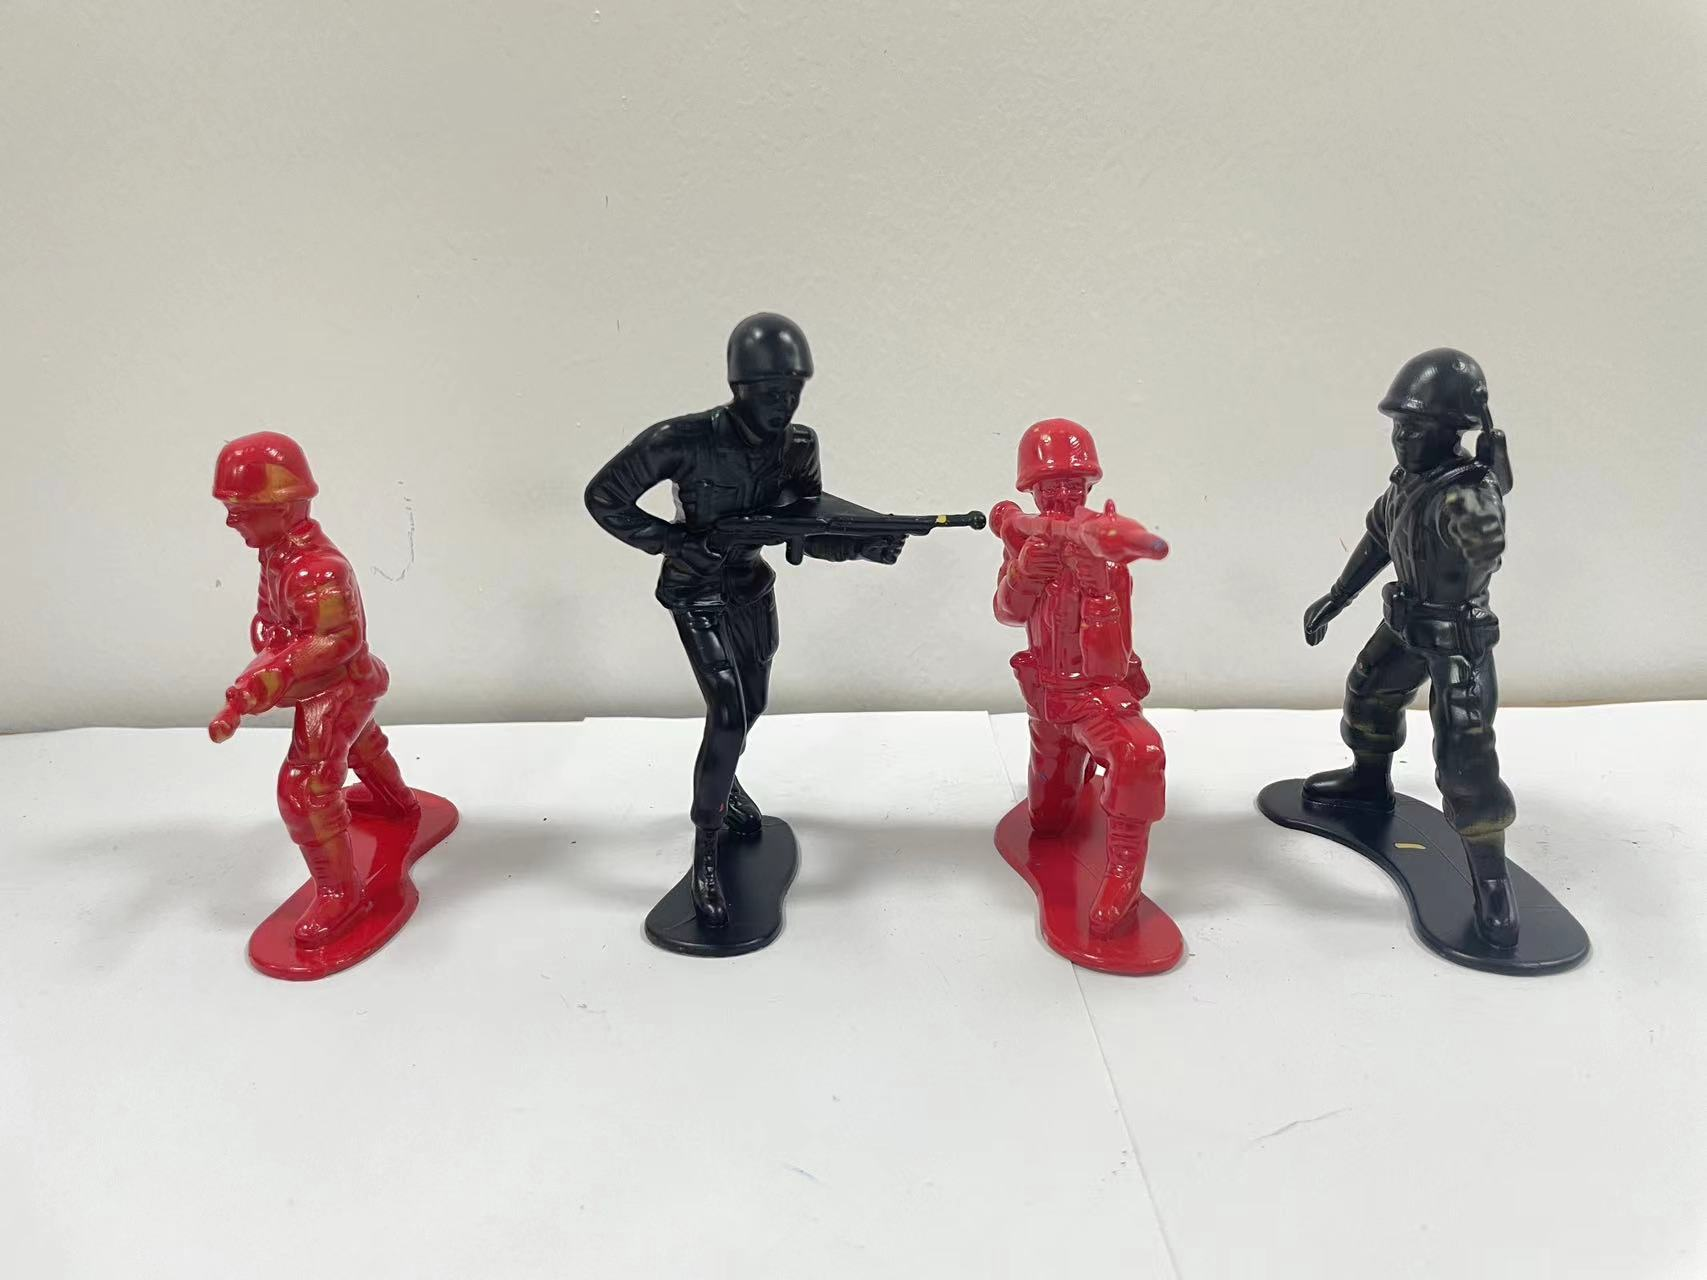black: (1266, 307, 1677, 1059), (552, 280, 927, 1029)
red: (130, 403, 487, 1021), (949, 397, 1239, 1011)
